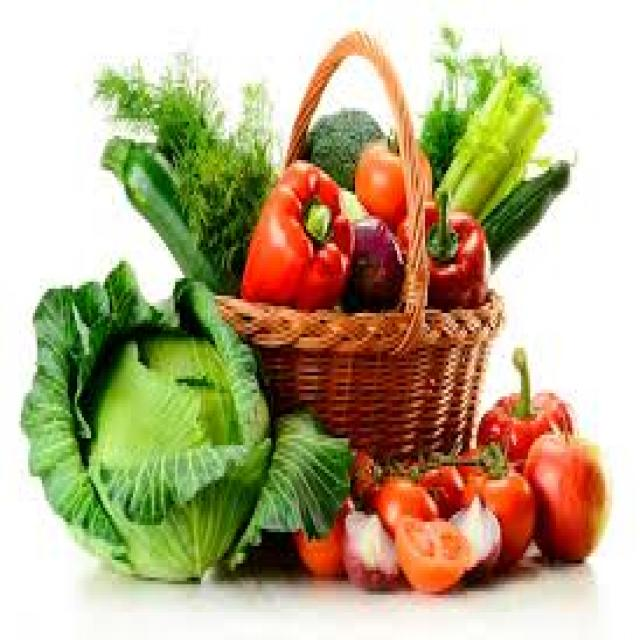organic waste: (18, 257, 346, 581), (88, 49, 276, 285), (82, 327, 243, 473), (100, 132, 238, 296), (418, 24, 551, 170), (238, 153, 350, 306), (432, 66, 542, 216), (474, 344, 572, 473), (523, 424, 603, 567), (397, 184, 488, 299), (479, 153, 570, 264), (462, 442, 535, 563), (301, 104, 383, 184), (353, 136, 432, 219), (393, 508, 467, 591), (364, 456, 434, 539), (290, 487, 352, 577), (344, 216, 399, 306), (448, 487, 500, 581), (341, 504, 399, 588), (418, 449, 467, 508), (453, 442, 509, 490), (348, 442, 385, 511)
